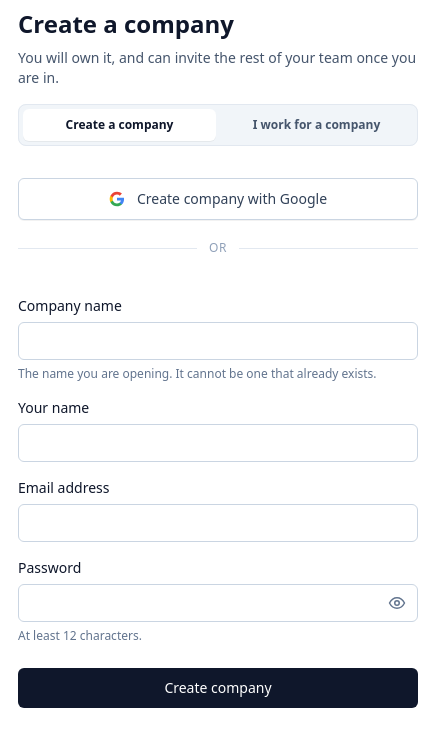
Test: SignUpPage › password strength › rewards length rather than punctuation
Type "Pa$$w0rd!123" into the password field labelled "Password" at [218, 603], box top-left (18, 584), bottom-right (418, 622)
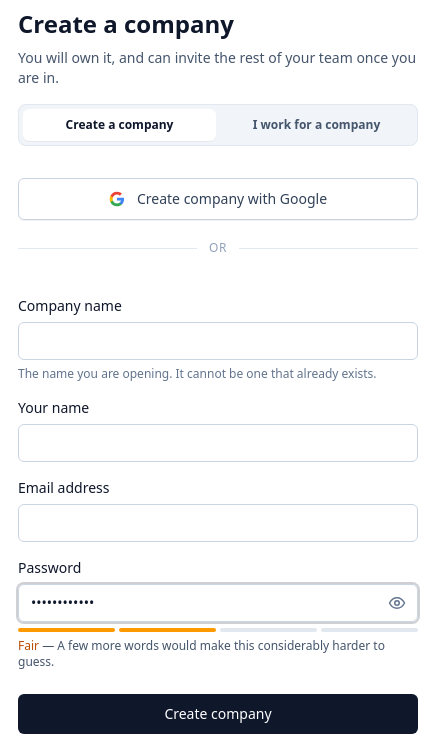
Result: the text "Fair" is shown at top-left (18, 637), bottom-right (39, 654)
Type "marmalade harbour lantern" into the password field labelled "Password" at [218, 603], box top-left (18, 584), bottom-right (418, 622)
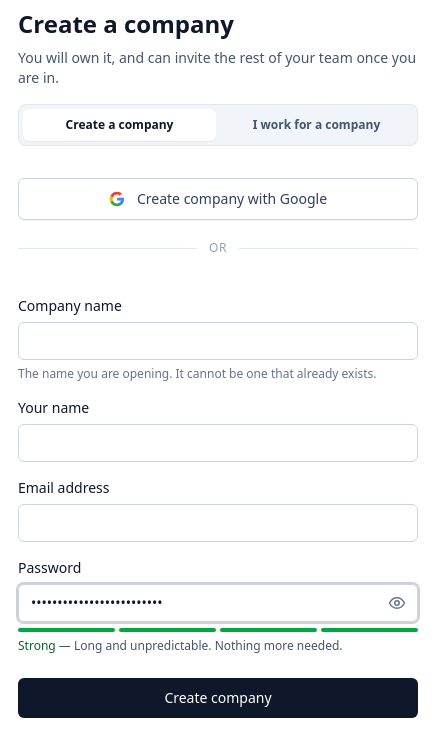
Result: the text "Strong" is shown at top-left (18, 637), bottom-right (56, 654)
